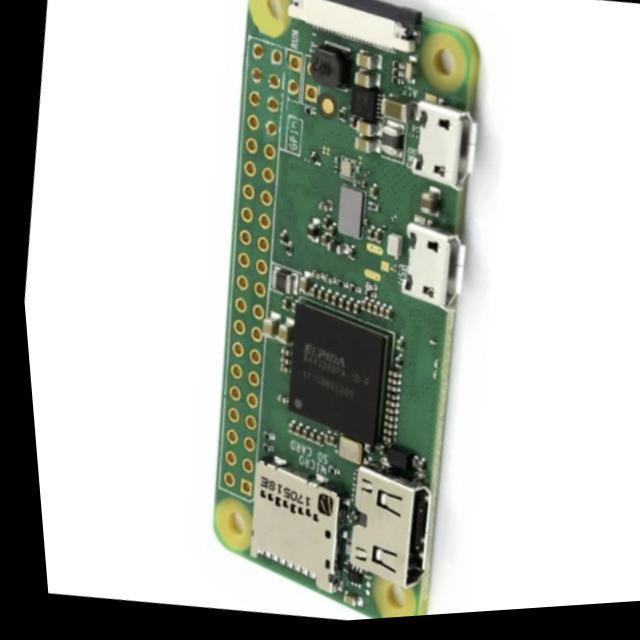Raspberry-Pi-Zero-W: (214, 1, 480, 617)
